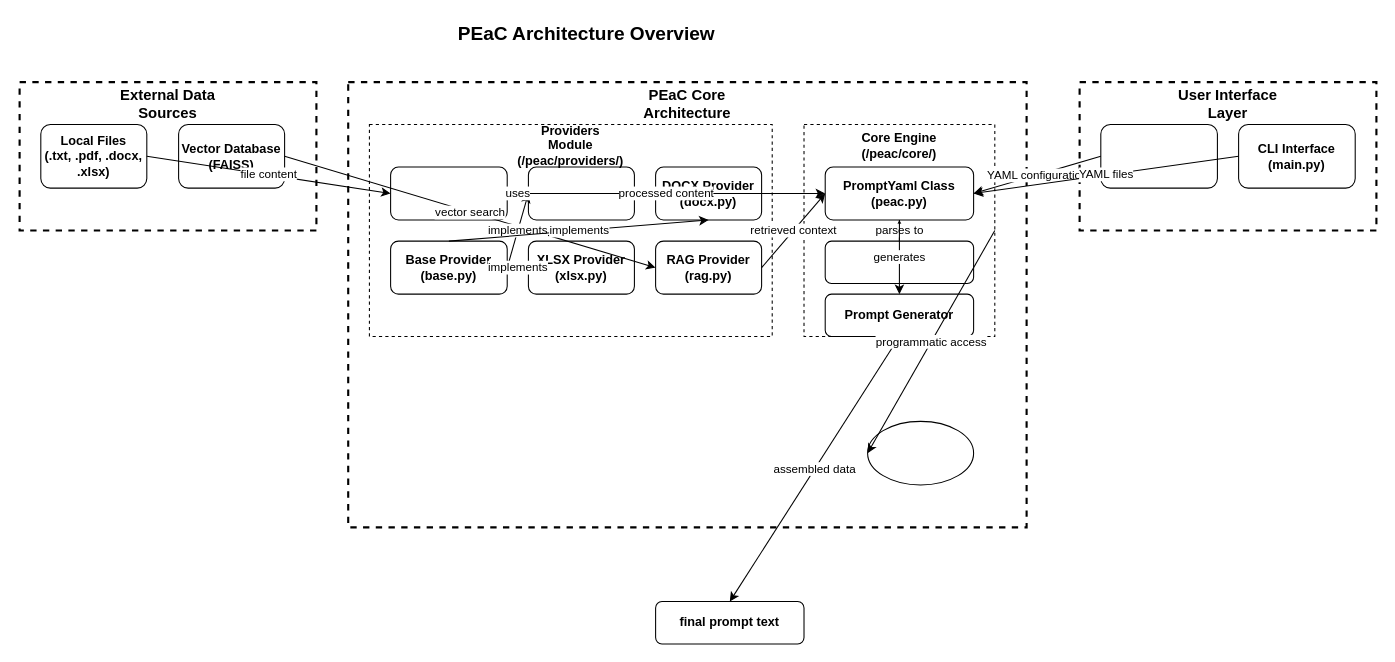
This 1395x662 diagram has some shape labels left out. Each missing label, with the centre of its shape:
"CustomTkinter GUI (/peac/gui_ctk/)" goes at (x=1158, y=155).
"Local File Parser (local_parser.py)" goes at (x=448, y=193).
"PDF Provider (pdf.py)" goes at (x=580, y=193).
"PEaC API" goes at (x=920, y=452).
"YAML Parser" goes at (x=899, y=262).
